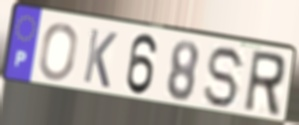6: (124, 32, 159, 98)
8: (166, 39, 201, 104)
K: (81, 26, 119, 91)
O: (36, 21, 80, 83)
R: (241, 48, 288, 120)
S: (202, 45, 248, 110)
